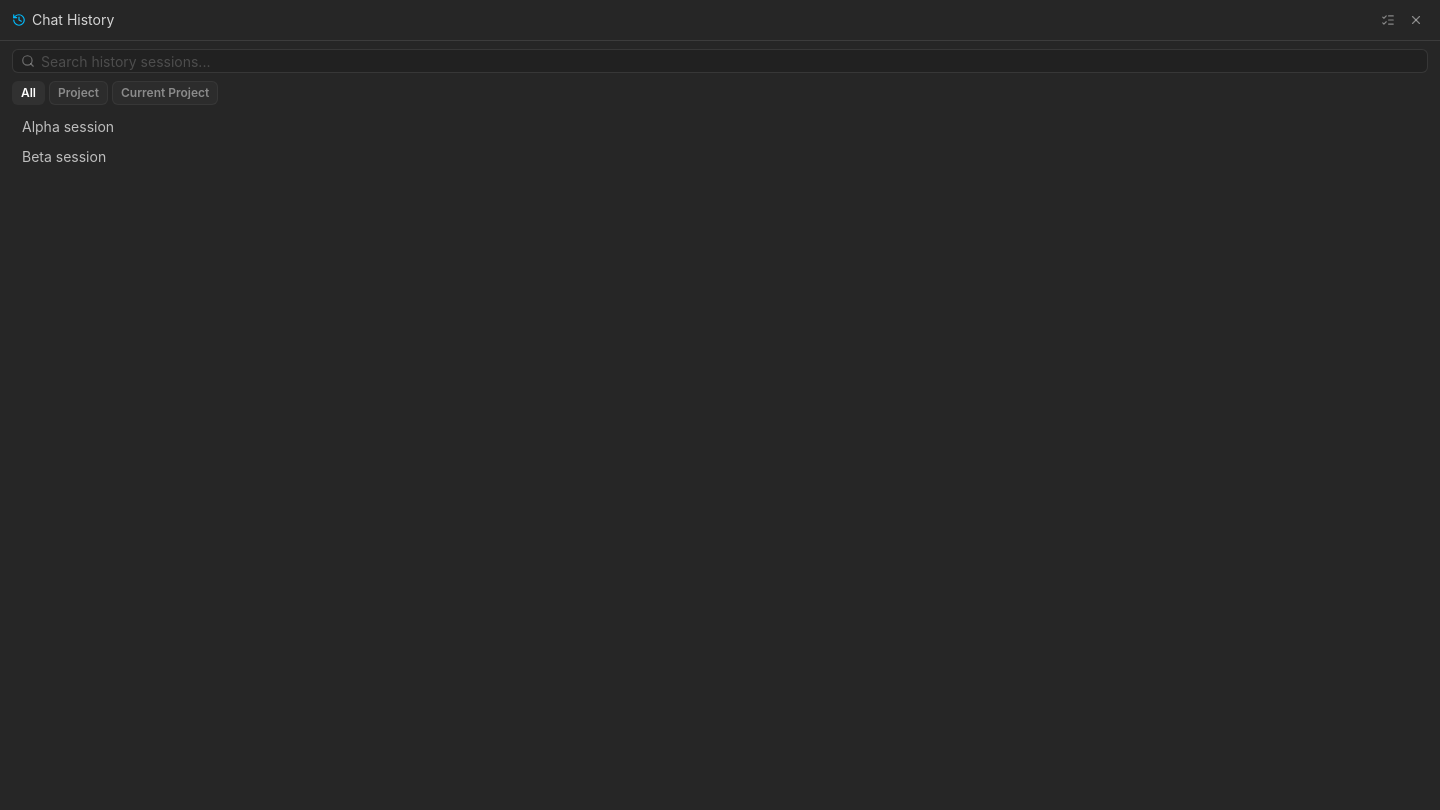
Test: AgentHistoryPanel › 多选模式勾选会话并在二次确认后批量删除
The image size is (1440, 810).
What coordinates should you click on to do the following:
click the button named "Select Sessions"
I would click on:
 (1388, 20)
Its box is [1376,8,1400,32].
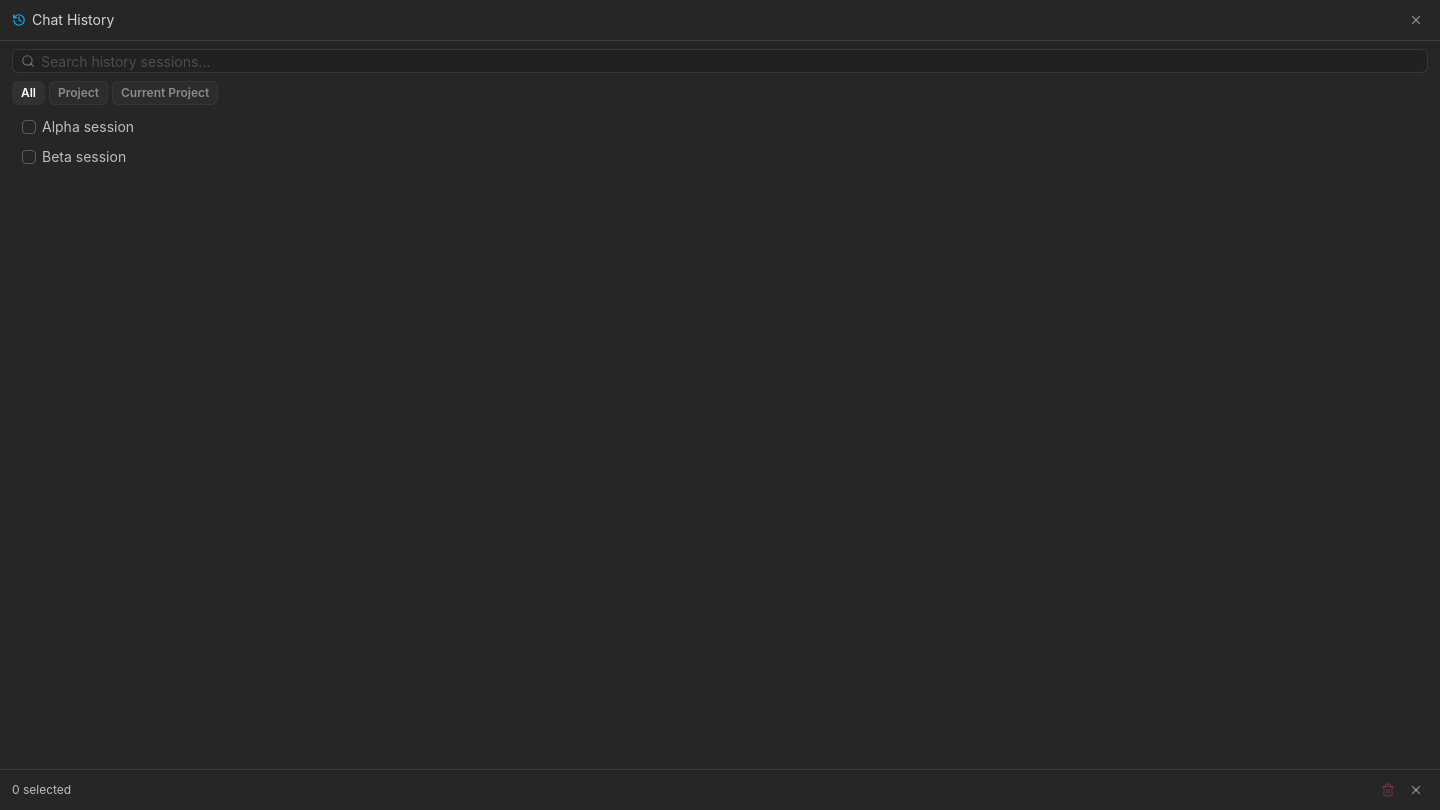
Result: the element with class "agent-history-select-bar" is shown at [0,769,1439,809]
Result: the text "0 selected" is shown at [12,782,71,798]
What coordinates should you click on to do the following:
click the button "Alpha session"
I would click on:
 (78, 126)
Its box is [22,118,134,135].
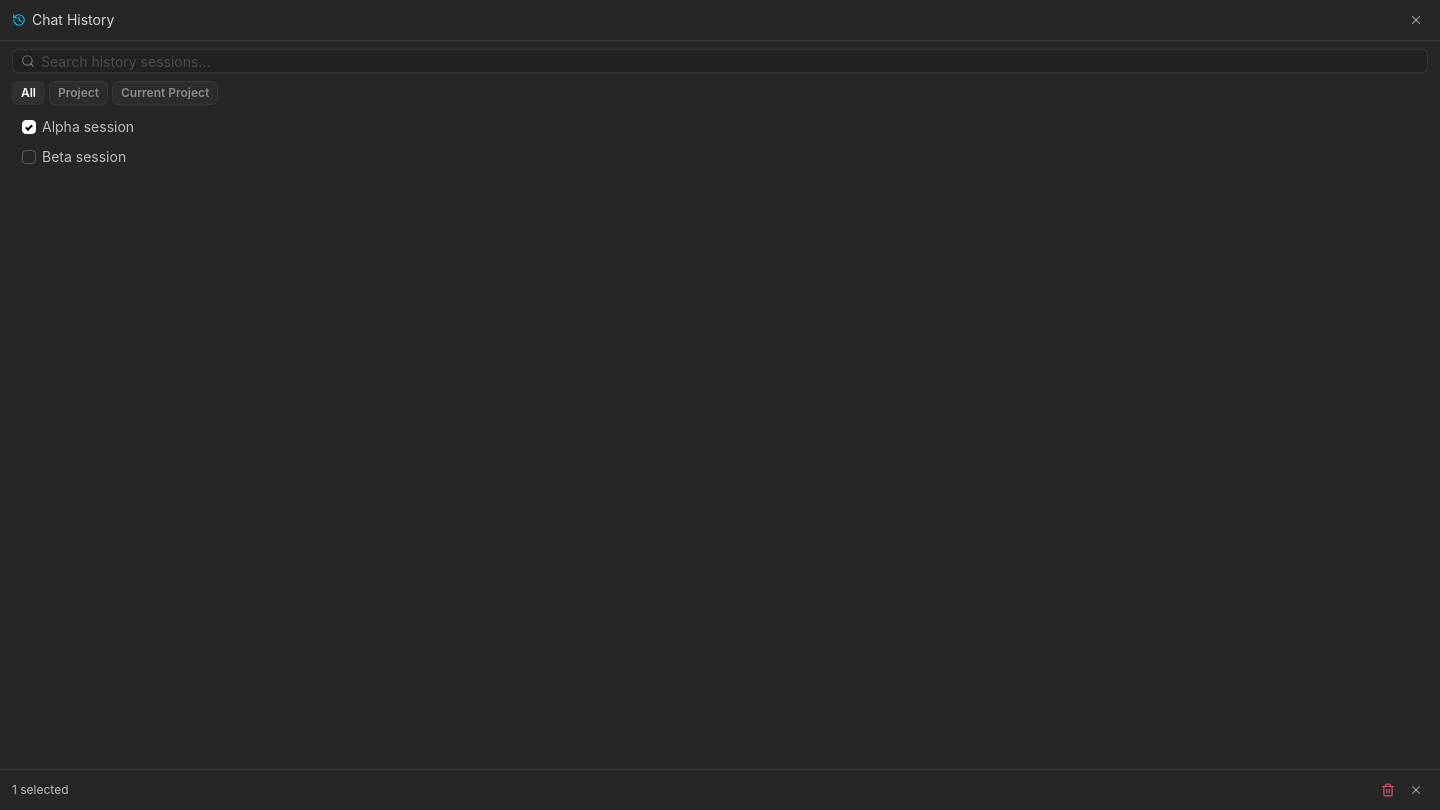
Result: the text "1 selected" is shown at [12,782,68,798]
# 删除为 icon + Tooltip 二次确认：首次点击仅展开确认气泡。
What coordinates should you click on to do the following:
click the button named "Delete Selected"
I would click on:
 (1388, 790)
Its box is [1376,778,1400,802].
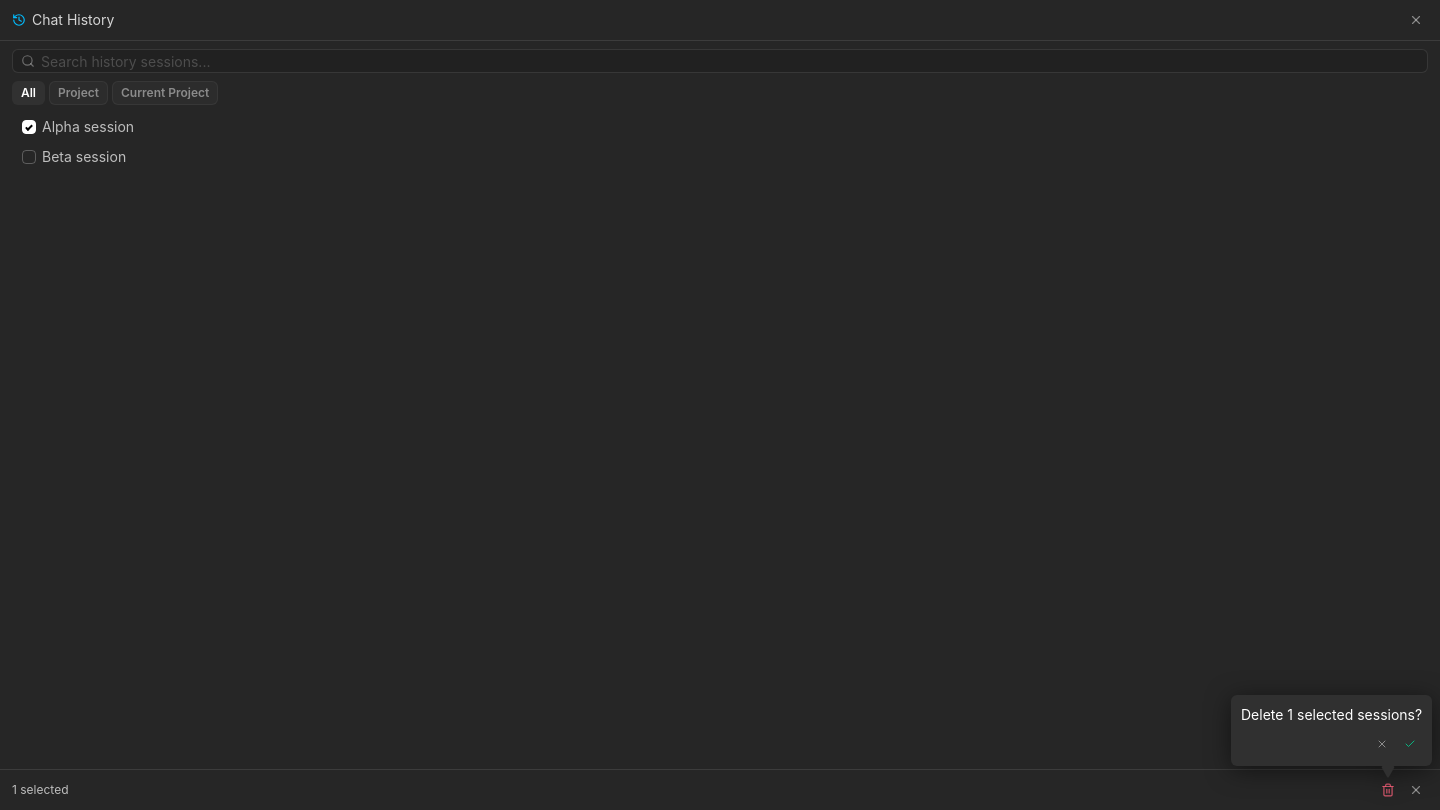
What coordinates should you click on to do the following:
click the button named "Confirm"
I would click on:
 (1410, 744)
Its box is [1398,732,1422,756].
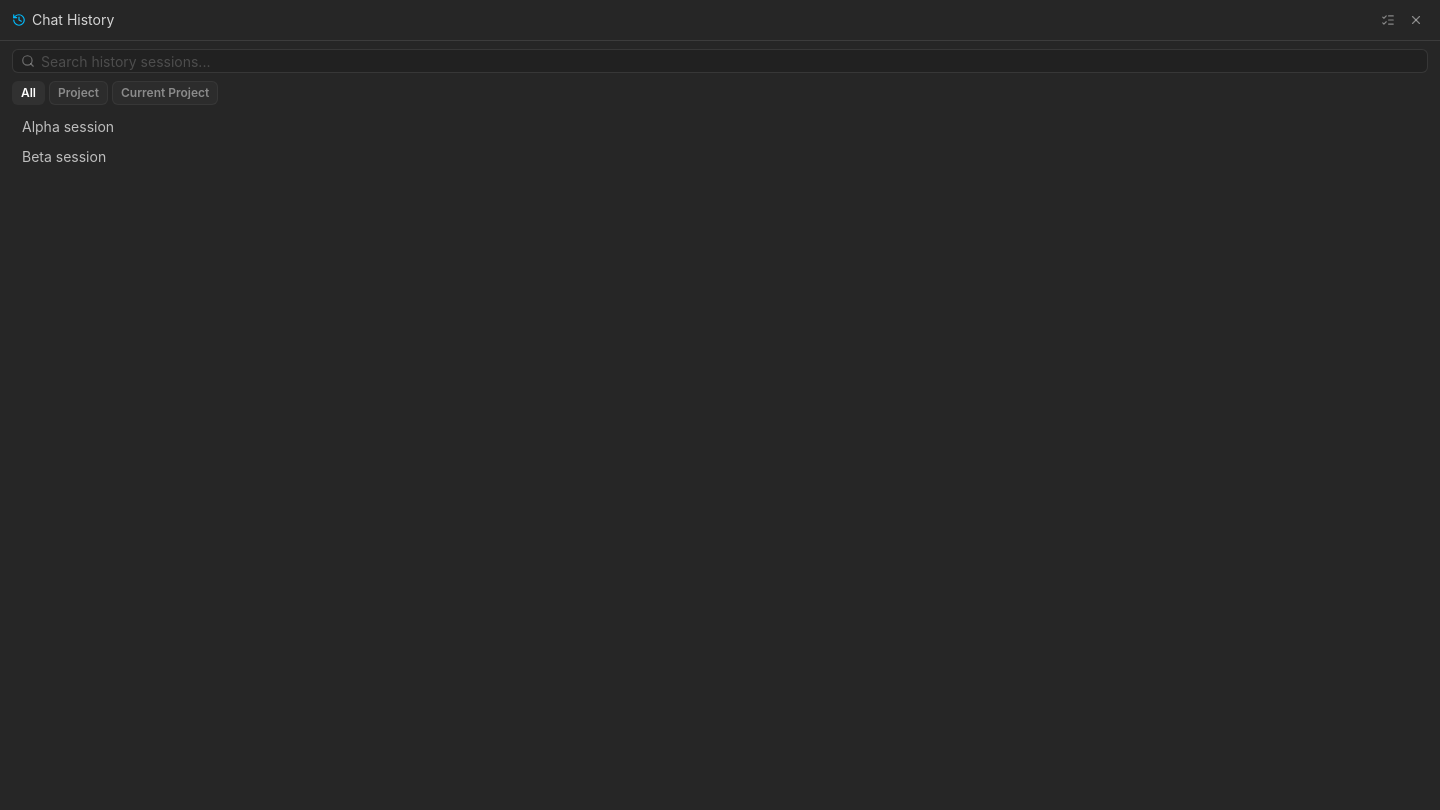
Result: the button named "Select Sessions" is shown at [1376,8,1400,32]
Result: the element with class "agent-history-select-bar" is gone
